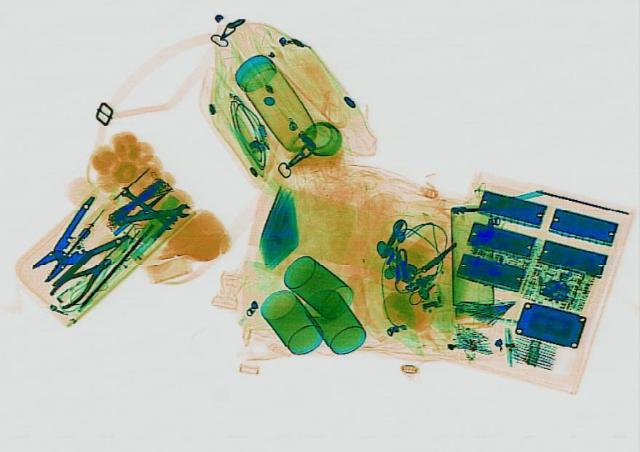Pliers: (6, 194, 144, 288), (38, 250, 124, 307)
Wrench: (114, 185, 176, 229), (111, 202, 193, 226)
